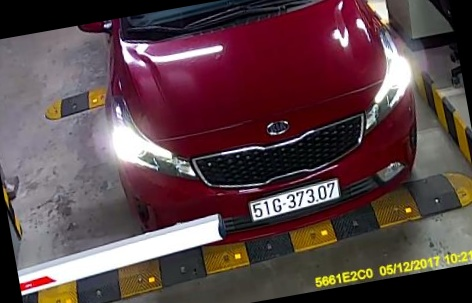plate: (242, 180, 350, 232)
